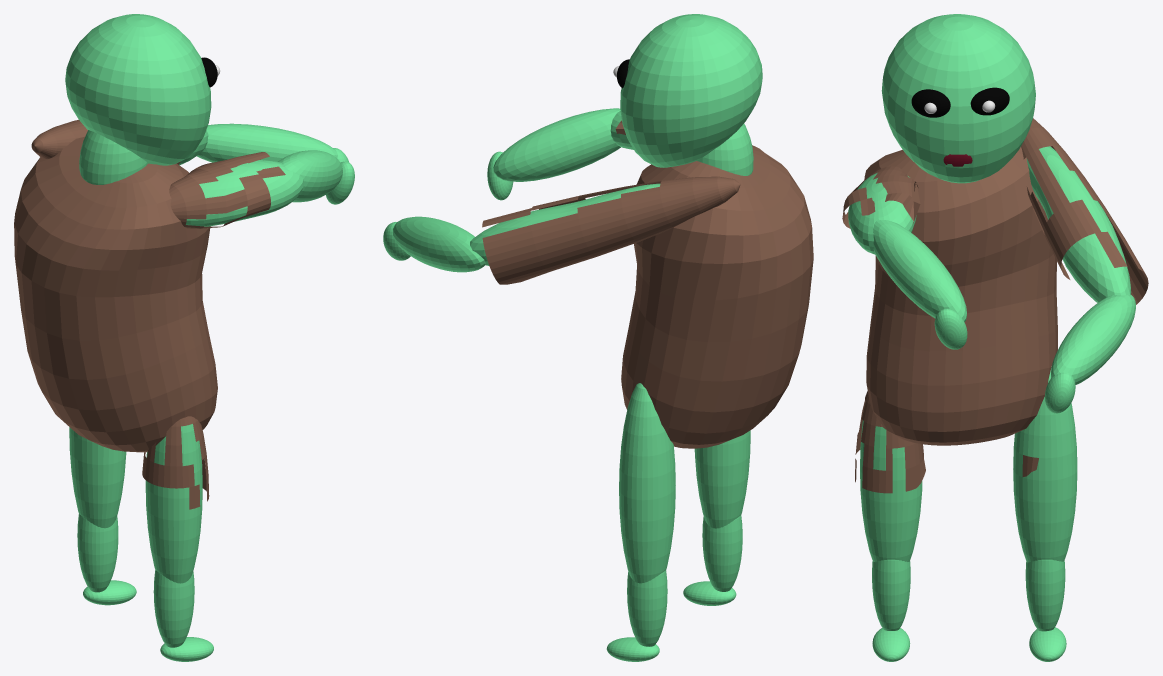
Rendered from Zombie.glb.
The picture shows the model from 3 angles, left to right: view 1: azimuth 30°, elevation 25°; view 2: azimuth 150°, elevation 25°; view 3: azimuth 270°, elevation 25°; orthographic projection. The views are drawn at different scales.
Visible parts, largest first — view 1: Sphere.001, Sphere, Sphere.010, Sphere.018, Sphere.009, Sphere.006, Sphere.003, Sphere.016, Sphere.015, Sphere.011, Sphere.008, Sphere.007 (+4 smaller); view 2: Sphere.001, Sphere, Sphere.017, Sphere.009, Sphere.007, Sphere.010, Sphere.006, Sphere.015, Sphere.011, Sphere.002, Sphere.008, Sphere.014 (+2 smaller); view 3: Sphere.001, Sphere, Sphere.009, Sphere.017, Sphere.010, Sphere.002, Sphere.007, Sphere.006, Sphere.016, Sphere.015, Sphere.011, Sphere.003 (+7 smaller).
Part boxes in pixels (bbox=[...]): Sphere.001: bbox=[14, 136, 217, 452]; Sphere: bbox=[65, 14, 211, 165]; Sphere.010: bbox=[145, 424, 202, 583]; Sphere.018: bbox=[169, 152, 285, 228]; Sphere.009: bbox=[69, 427, 126, 528]; Sphere.006: bbox=[197, 123, 337, 162]; Sphere.003: bbox=[186, 160, 303, 226]; Sphere.016: bbox=[142, 416, 209, 509]; Sphere.015: bbox=[77, 514, 118, 592]; Sphere.011: bbox=[153, 570, 194, 647]; Sphere.008: bbox=[79, 130, 147, 184]; Sphere.007: bbox=[278, 150, 342, 202]; Sphere.001: bbox=[621, 145, 813, 448]; Sphere: bbox=[620, 14, 762, 167]; Sphere.017: bbox=[482, 176, 740, 284]; Sphere.009: bbox=[619, 383, 675, 583]; Sphere.007: bbox=[493, 108, 620, 181]; Sphere.010: bbox=[694, 430, 750, 528]; Sphere.006: bbox=[393, 216, 485, 272]; Sphere.015: bbox=[627, 570, 667, 646]; Sphere.011: bbox=[702, 515, 742, 591]; Sphere.002: bbox=[470, 183, 660, 265]; Sphere.008: bbox=[697, 123, 753, 175]; Sphere.014: bbox=[606, 637, 659, 661]; Sphere.001: bbox=[864, 147, 1057, 445]; Sphere: bbox=[881, 14, 1035, 183]; Sphere.009: bbox=[1013, 366, 1077, 562]; Sphere.017: bbox=[1021, 118, 1148, 304]; Sphere.010: bbox=[860, 420, 922, 561]; Sphere.002: bbox=[1026, 146, 1131, 302]; Sphere.007: bbox=[873, 220, 966, 321]; Sphere.006: bbox=[1051, 294, 1135, 385]; Sphere.016: bbox=[855, 391, 925, 493]; Sphere.015: bbox=[1025, 559, 1065, 631]; Sphere.011: bbox=[872, 559, 910, 630]; Sphere.003: bbox=[848, 172, 916, 254].
Bounding box in the file's own units: 2.23 × 3.56 × 1.58.
